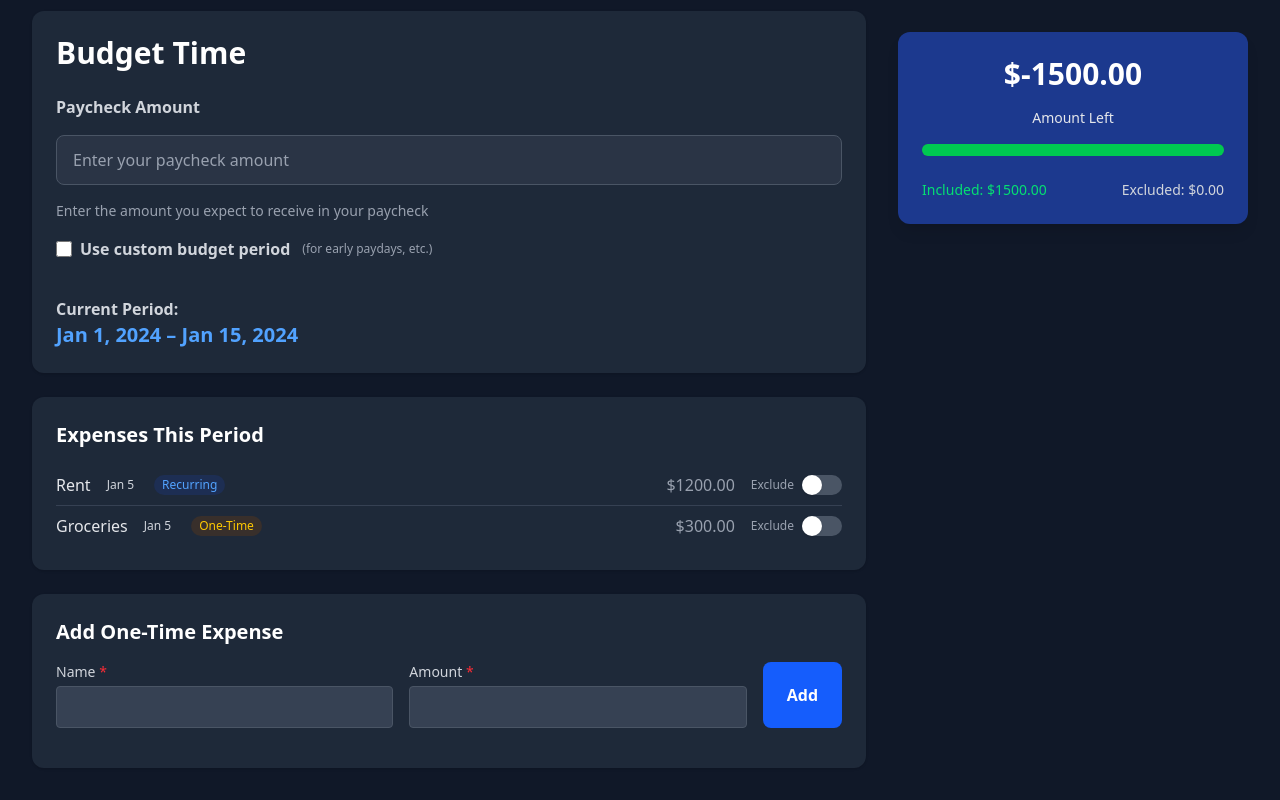
BudgetTime Page › validates one-time expense form
(page scrolled)
Click the button "Add" at (802, 695), box top-left (763, 662), bottom-right (842, 728)
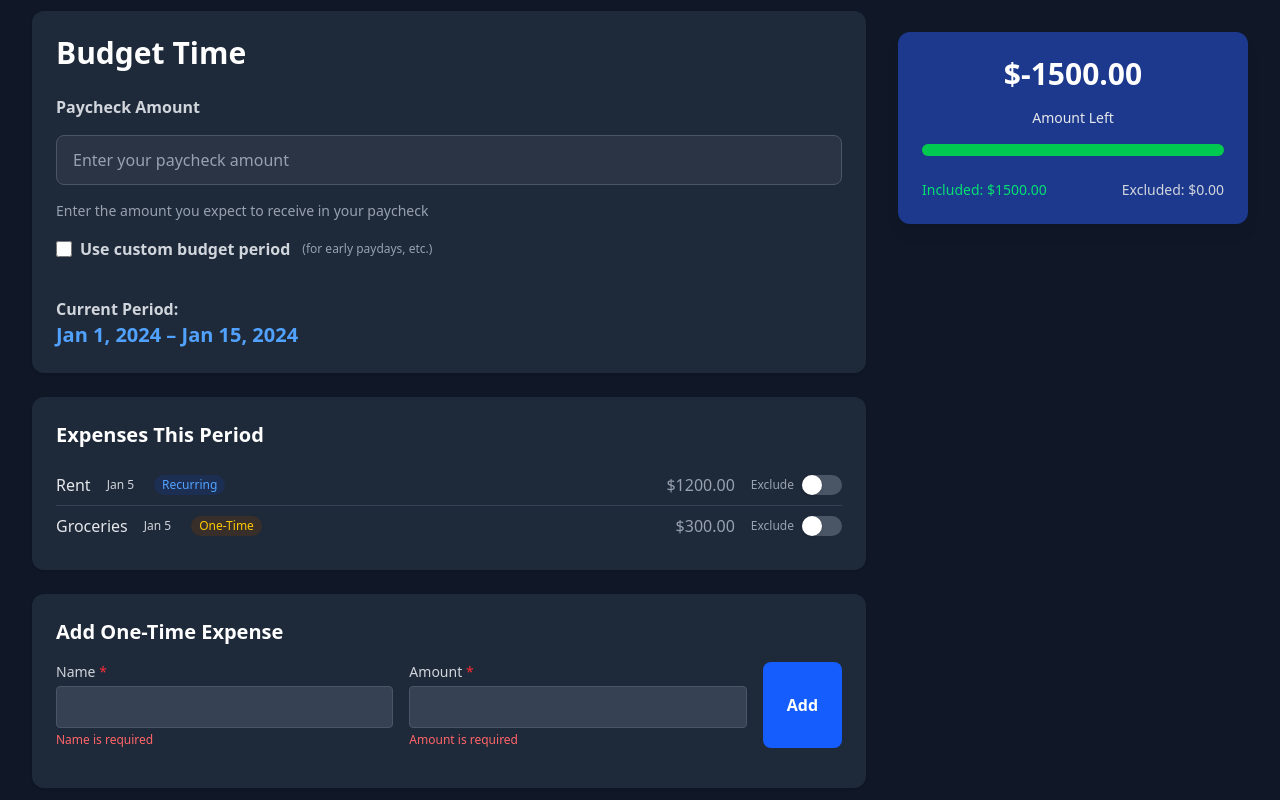
Result: the text "Name is required" is shown at top-left (56, 731), bottom-right (153, 748)
Result: the text "Amount is required" is shown at top-left (409, 731), bottom-right (518, 748)
